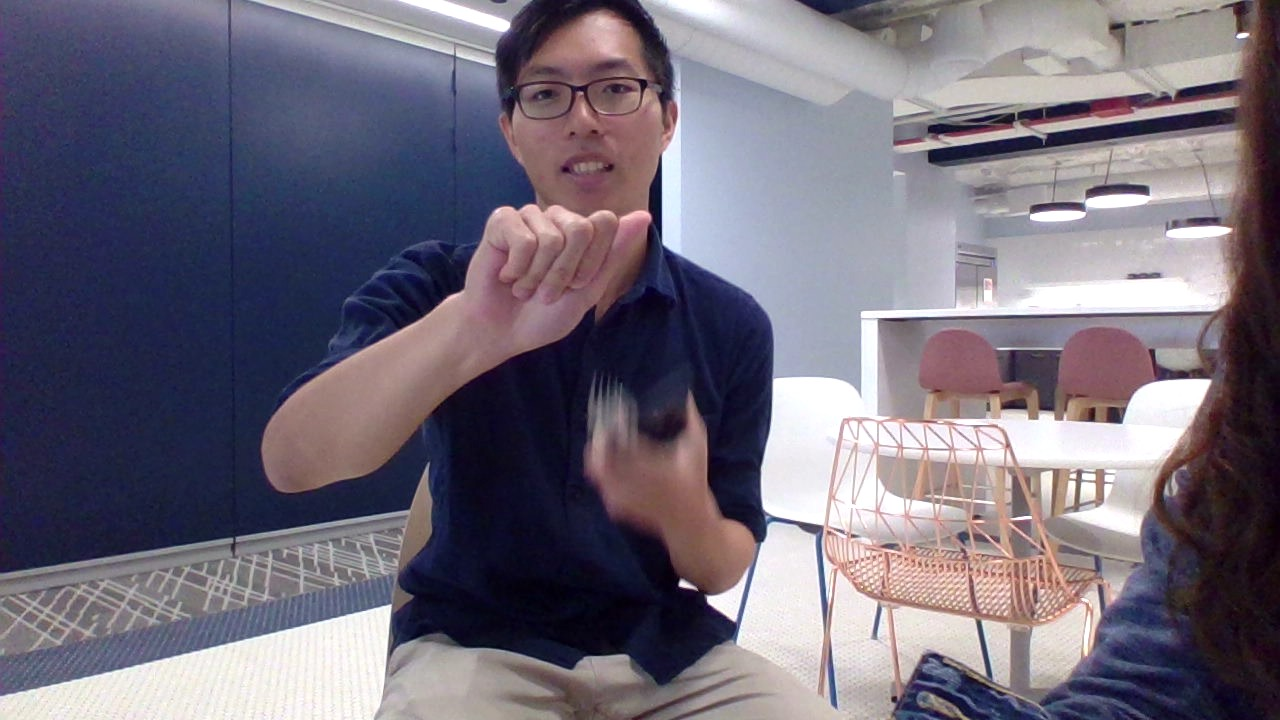a: (442, 191, 669, 382)
